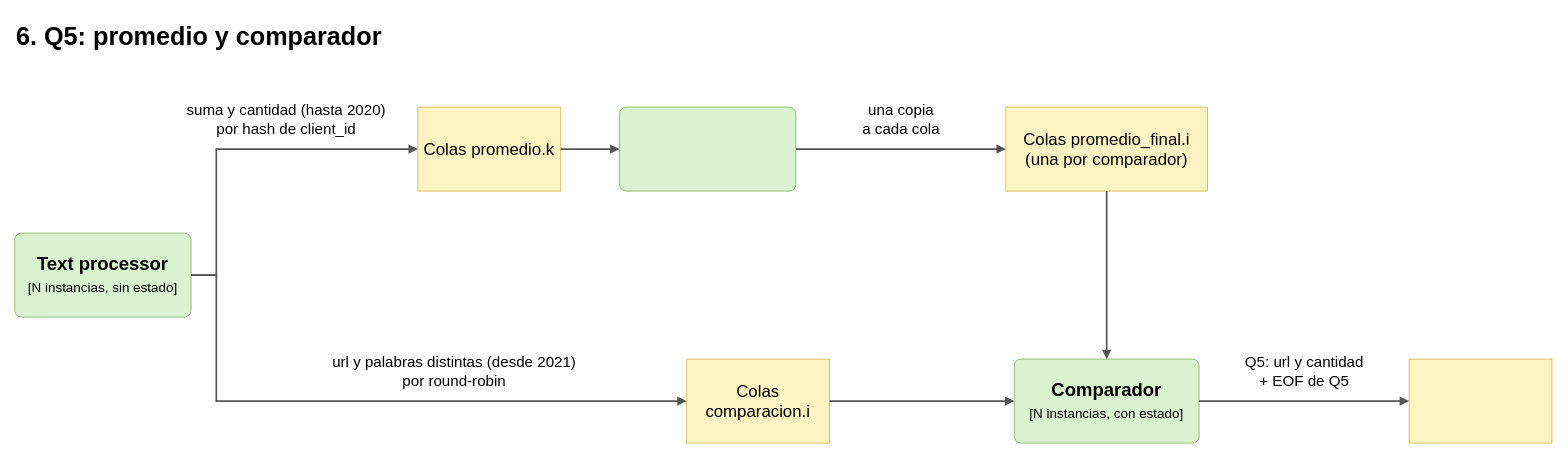
The diagram is 1567 pixels wide and 458 high, and some of its shapes have lost their labels. The centre of each missing label's shape, as x and y in pixels:
"Cola resultados.g" belongs at (1480,400).
"Promedio [con estado, por cliente]" belongs at (707,148).
